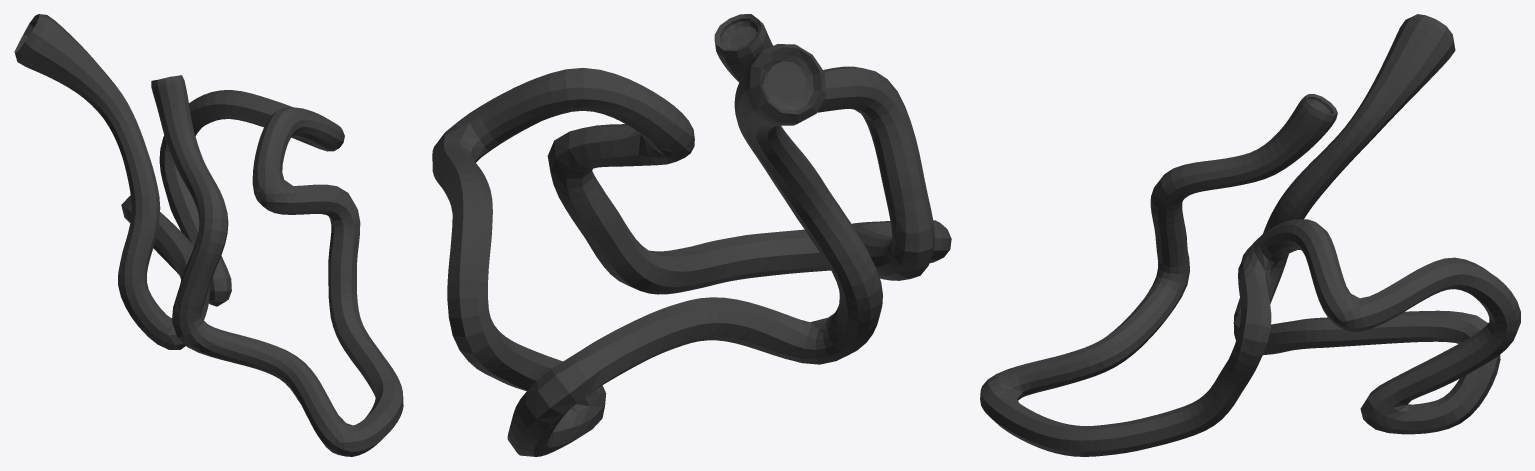
3 renders of one model, left to right at view 1: azimuth 30°, elevation 25°; view 2: azimuth 150°, elevation 25°; view 3: azimuth 270°, elevation 25°, orthographic. The views are drawn at different scales.
Visible parts, largest first — view 1: SI; view 2: SI; view 3: SI.
Boxes of the visible parts, x1,y1,x2,y2 form: SI: (14, 14, 403, 456); SI: (432, 14, 951, 456); SI: (980, 14, 1520, 456).
Size of the model in its own units: 0.4002 by 0.4242 by 0.6031.
Materials: 1 (1 with a texture image).
